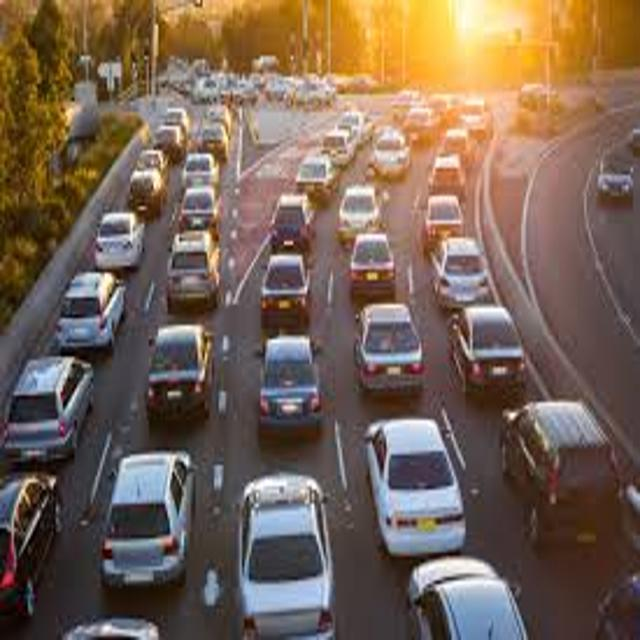car: (501, 400, 619, 552), (235, 472, 335, 640), (364, 418, 466, 558), (101, 449, 195, 590), (1, 356, 96, 464), (409, 557, 527, 640), (1, 472, 64, 617), (255, 337, 324, 437), (448, 306, 525, 395), (355, 303, 424, 395), (147, 324, 213, 418), (56, 271, 126, 349), (431, 237, 489, 306), (168, 231, 220, 307), (260, 255, 312, 325), (345, 234, 396, 299), (94, 213, 144, 268), (270, 196, 315, 253), (597, 156, 634, 207)
